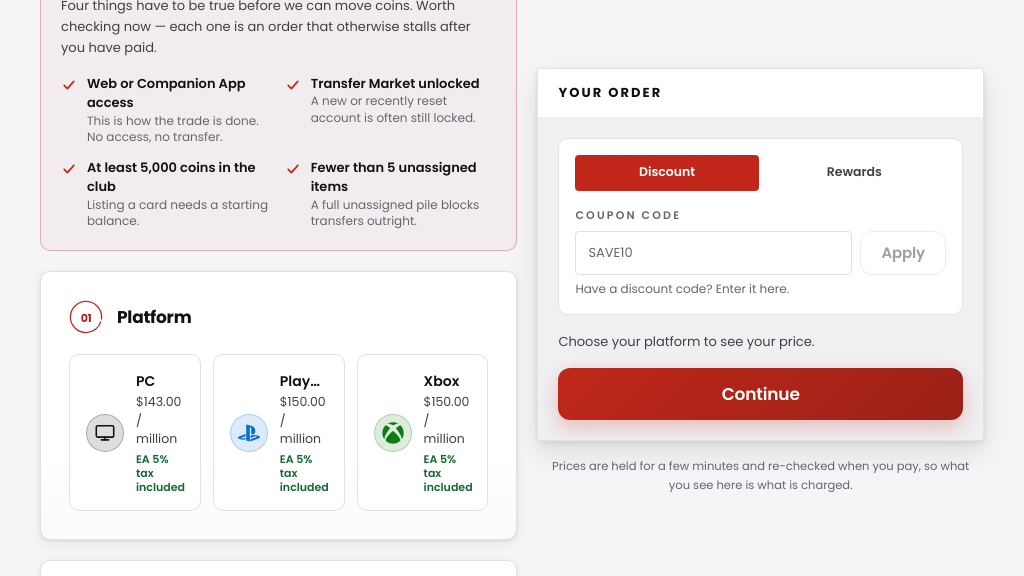
it: PC: its own structure › the rate follows the bracket the amount reaches, for every coin in the order
(page scrolled)
Click the button "PC $143.00 / million EA 5% tax included": (135, 433) top-left (69, 354), bottom-right (201, 512)
(page scrolled)
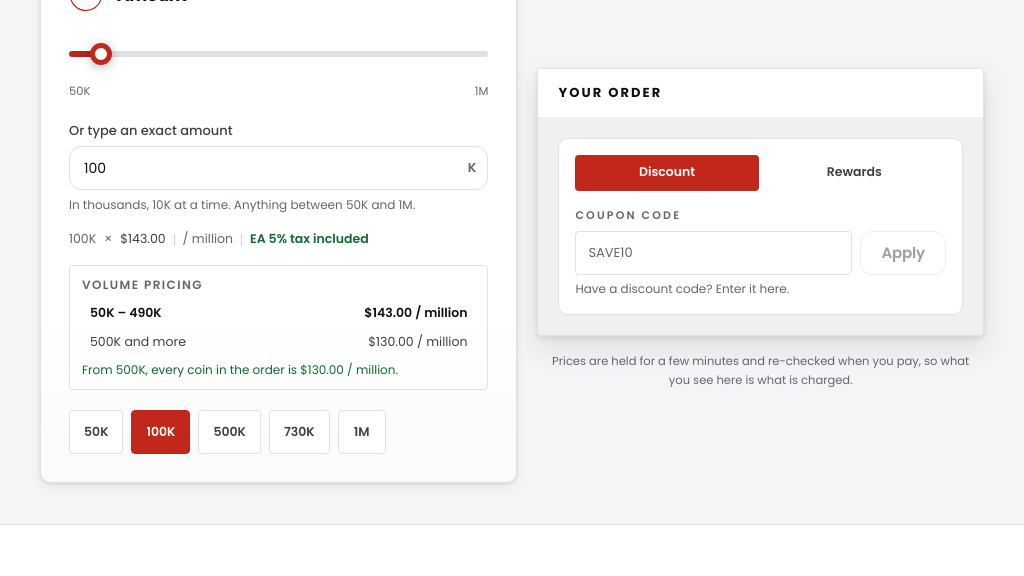
Expected: the text with test id "applied-rate" reads "$143.00", top-left (120, 230), bottom-right (166, 247)
Expected: the list item "50K – 490K $143.00 / million" is shown, top-left (82, 300), bottom-right (475, 327)
Expected: the list item "500K and more $130.00 / million" is shown, top-left (82, 329), bottom-right (475, 356)
Click the button "500K": (230, 432) top-left (198, 410), bottom-right (261, 454)
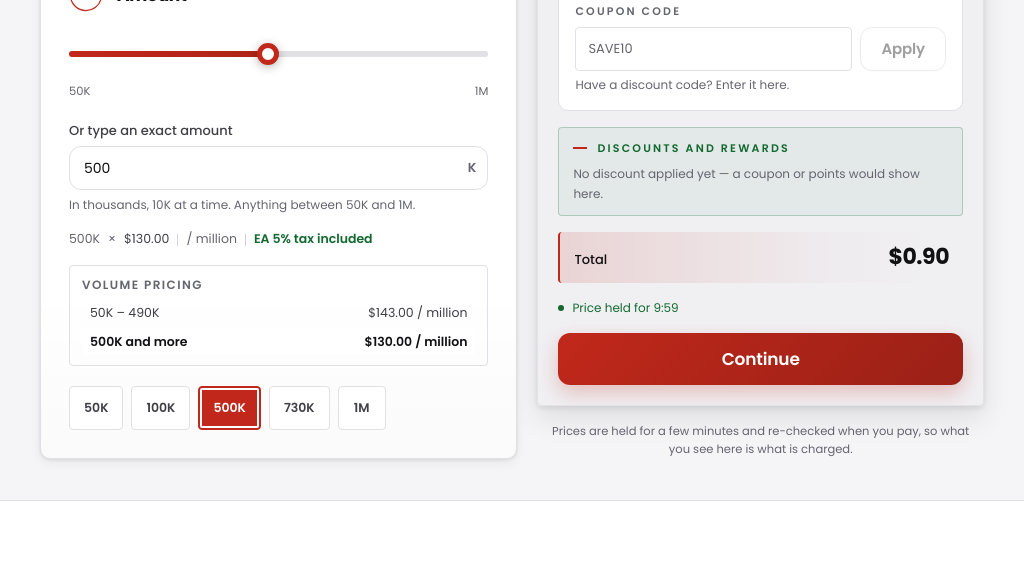
Expected: the text with test id "applied-rate" reads "$130.00", top-left (124, 230), bottom-right (169, 247)
Expected: the element with test id "volume-pricing" no longer shows "From 500K", top-left (69, 265), bottom-right (488, 366)
